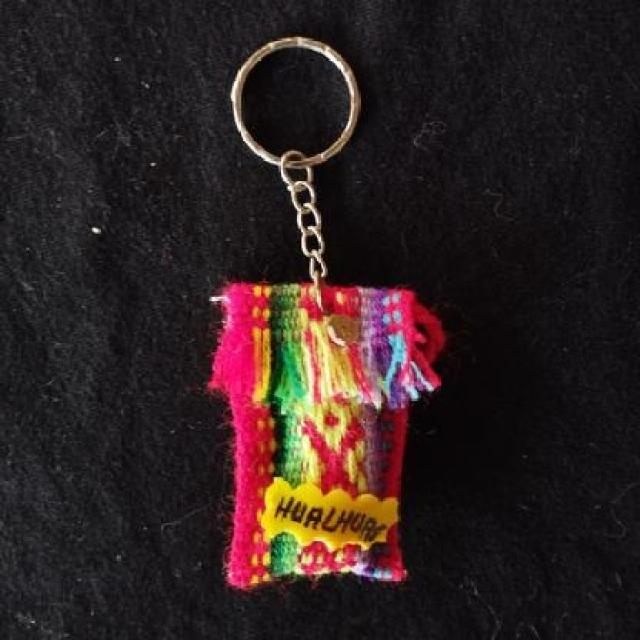Llavero: (205, 280, 444, 591)
